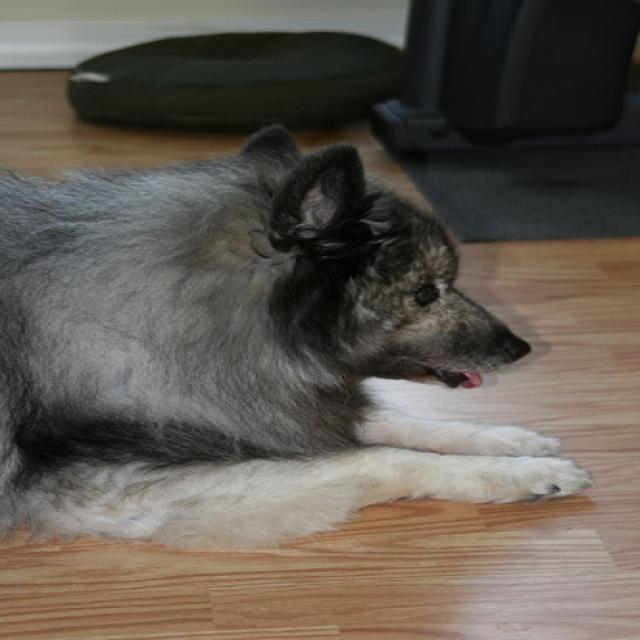dog: (234, 123, 530, 386)
